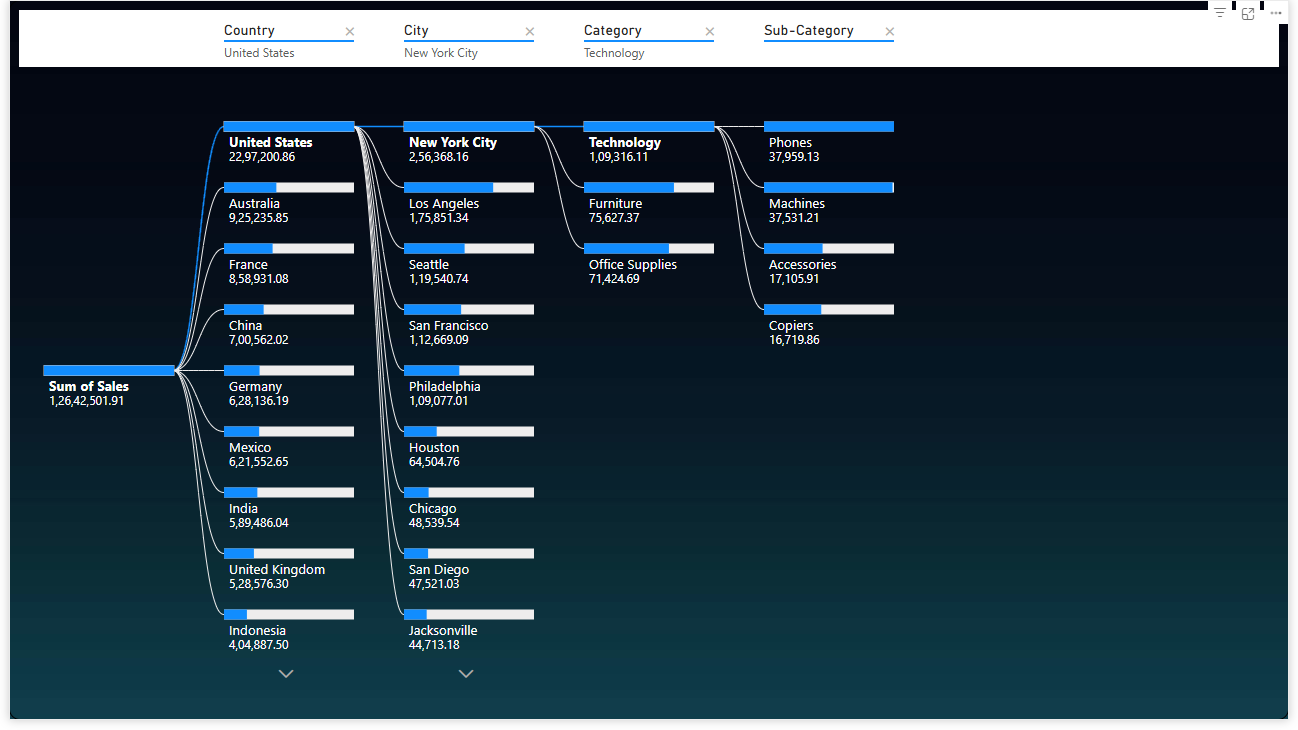

This screenshot's page, from the dashboard's own definition file:
{"tool":"powerbi","page":{"name":"Decomposition","canvas":[1280,720],"ordinal":2},"visuals":[{"type":"decompositionTreeVisual","fields":{"Analyze":["Sum(Orders.Sales)"],"ExplainBy":["Orders.Country","Orders.City","Orders.Category","Orders.Sub-Category"]},"box":[0,0,1280,719.8],"z":0}]}

Visuals, with their boxes on the page's 1280x720 design canvas (x1, y1, x2, y2). These are canvas units, not pixel positions in the 1298x730 screenshot, which may show the page scaled, cropped or inside an application window:
decompositionTreeVisual - Sum(Orders.Sales) x Orders.Country: left=0, top=0, right=1280, bottom=720
